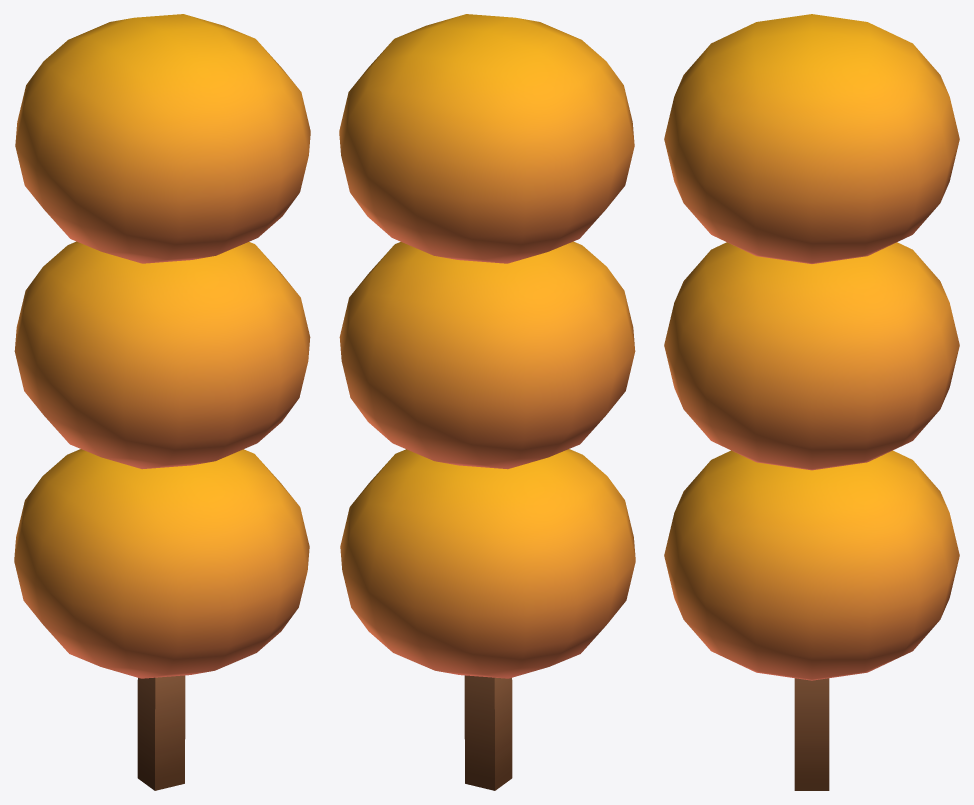
The model's file is lpb_food_kwekkwek.fbx.
3 views of the same model, side by side, from view 1: azimuth 30°, elevation 25°; view 2: azimuth 150°, elevation 25°; view 3: azimuth 270°, elevation 25° (orthographic).
Parts seen in each view (by area): view 1: kwekkwek; view 2: kwekkwek; view 3: kwekkwek.
Part boxes in pixels (left/top/right/bottom): kwekkwek: left=14, top=14, right=310, bottom=790; kwekkwek: left=339, top=14, right=635, bottom=790; kwekkwek: left=664, top=14, right=959, bottom=790.
Bounding box in the file's own units: 16.04 × 44.87 × 15.97.
